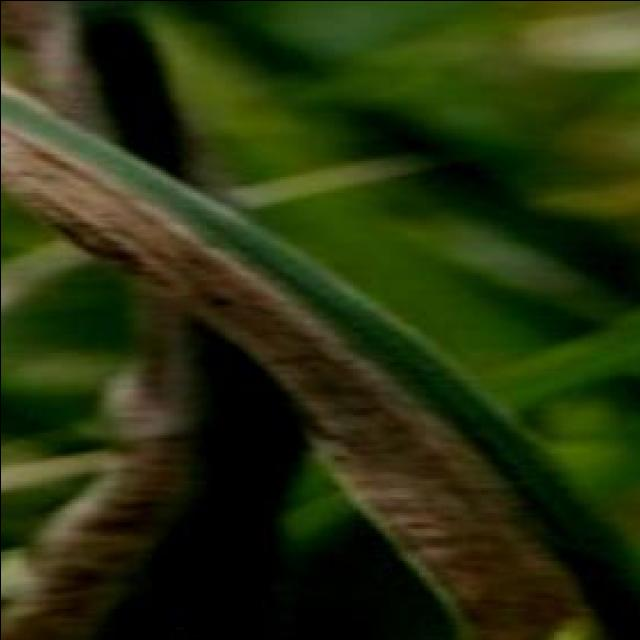Bacterial_Leaf_Blight: (341, 345, 604, 640)
